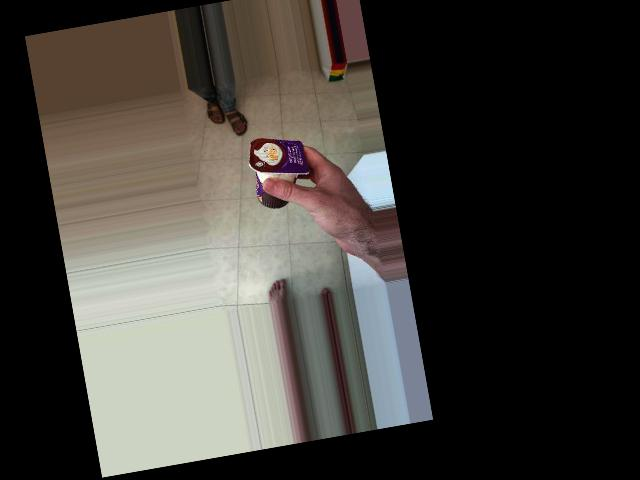milky: (246, 131, 313, 217)
